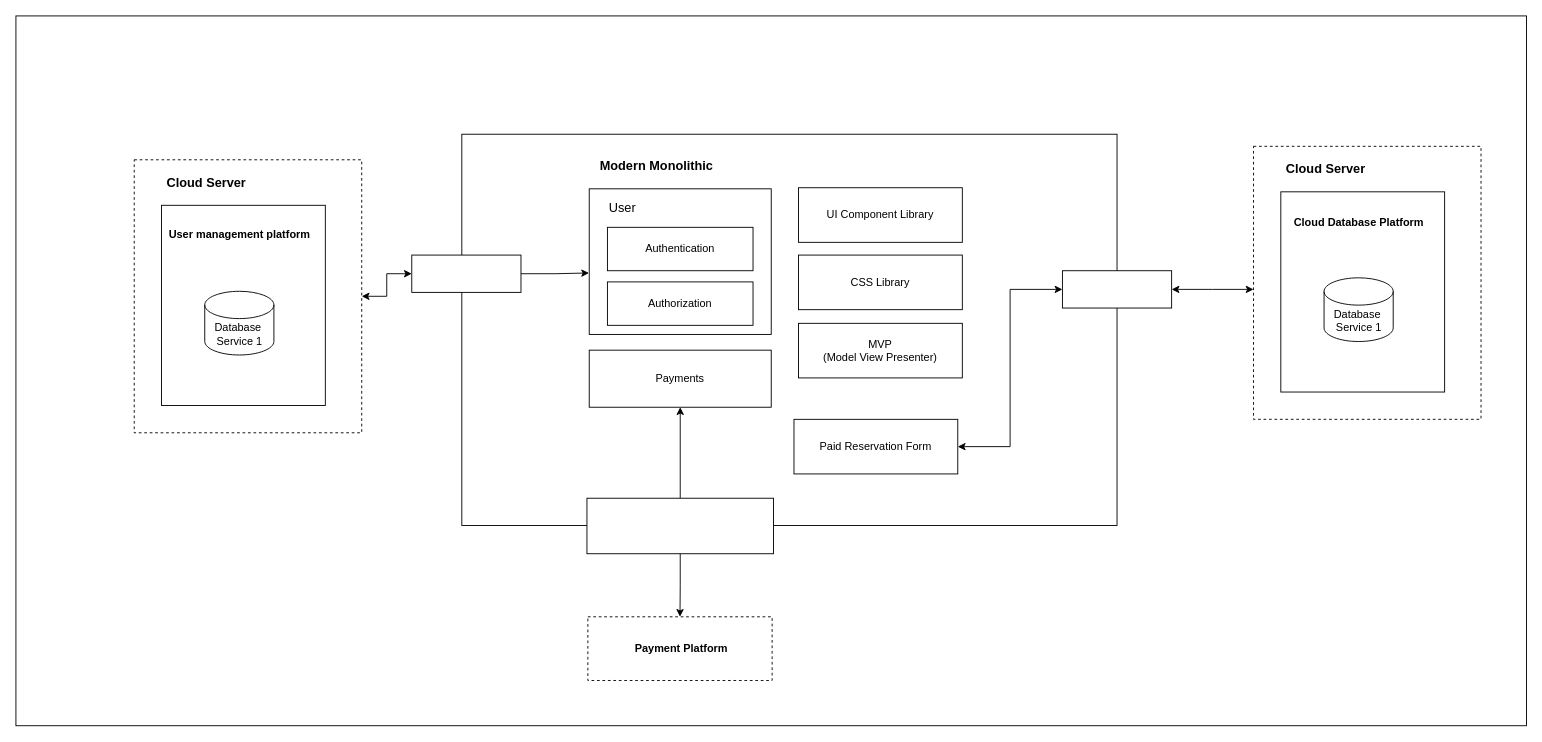
The diagram is 1542 pixels wide and 742 high, and some of its shapes have lost their labels. Each missing label, with the centre of its shape:
API Checkout / Payment / Confirm: the point at 680,525
Middleware: the point at 466,273
Prisma ORM: the point at 1117,289
